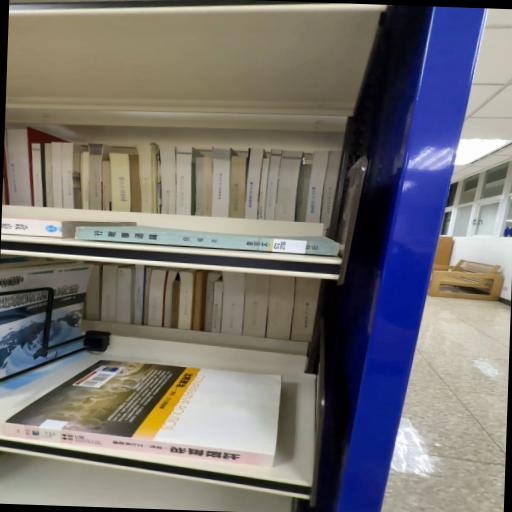flat: (3, 360, 281, 466), (74, 224, 338, 256)
